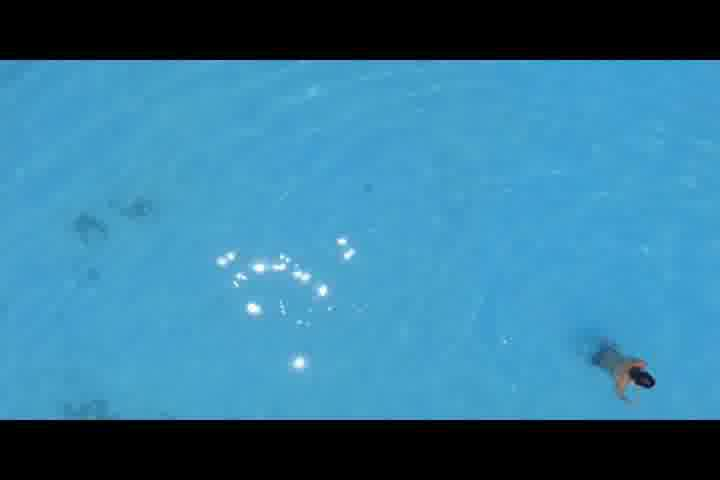swimmer: (585, 338, 662, 409)
